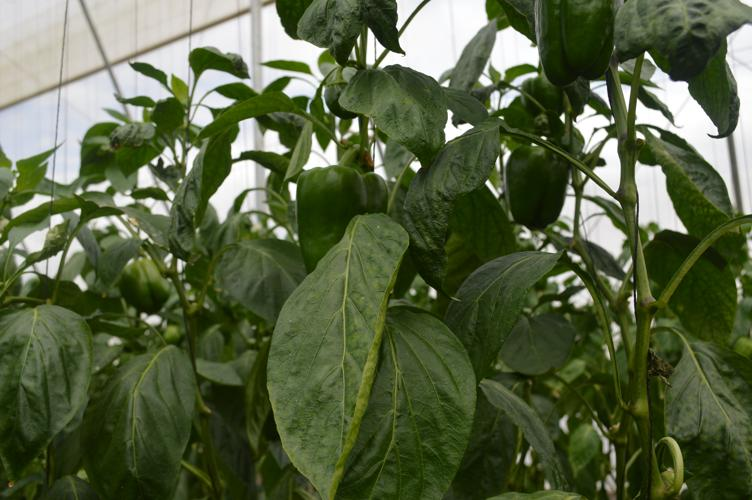BellPepper: (293, 169, 383, 273), (533, 4, 610, 78), (503, 148, 565, 228), (119, 254, 171, 311), (525, 75, 563, 116)
